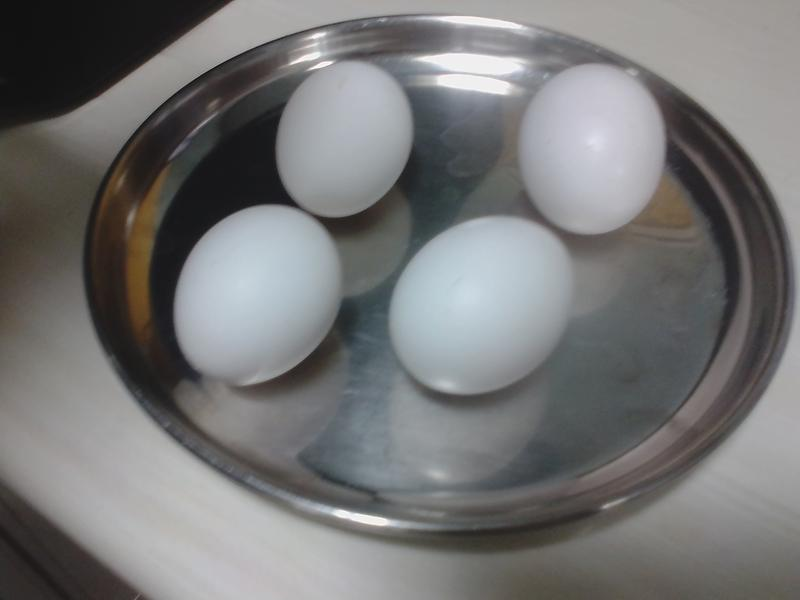egg: (387, 214, 570, 394)
